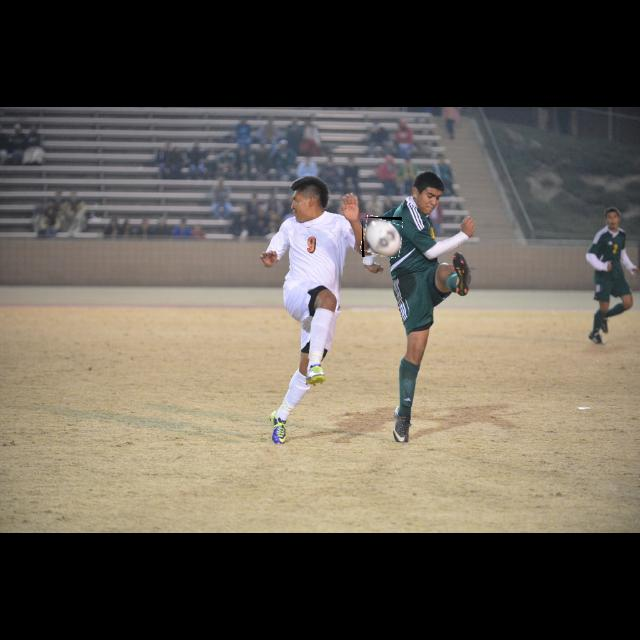Football: (362, 217, 402, 257)
